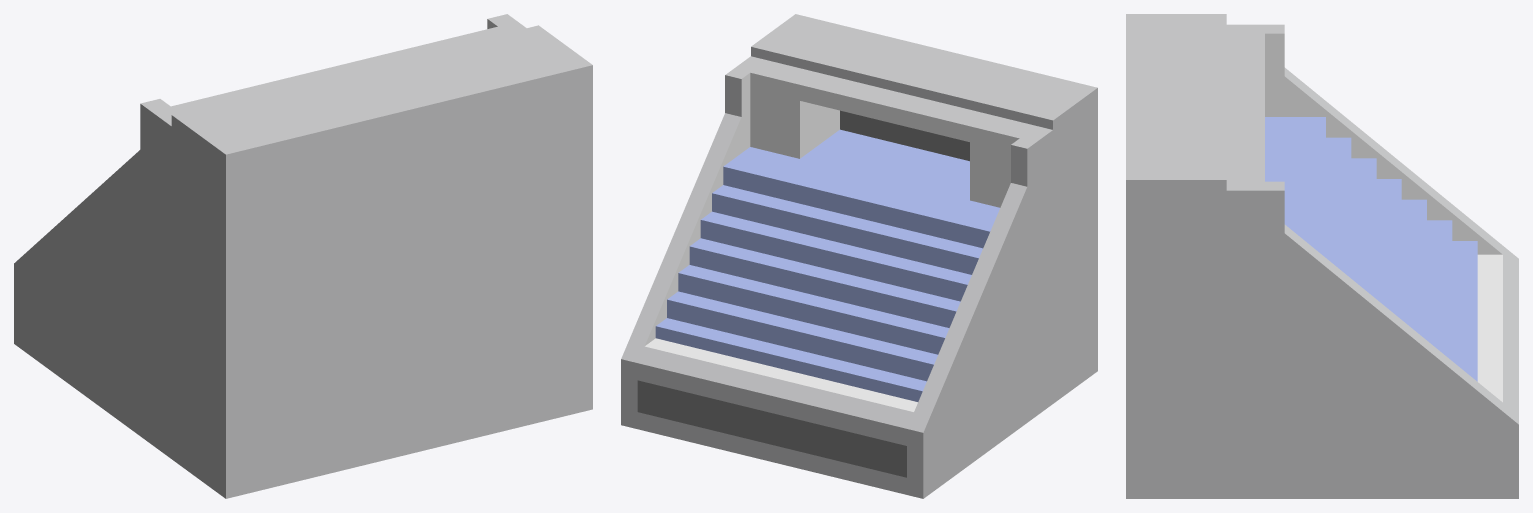
File: grandStandblue.fbx
3 renders of one model, left to right at view 1: azimuth 30°, elevation 25°; view 2: azimuth 150°, elevation 25°; view 3: azimuth 270°, elevation 25°, orthographic. The views are drawn at different scales.
Visible parts, largest first — view 1: grandStand; view 2: grandStand; view 3: grandStand.
Part boxes in pixels (x1,y1,x2,y2): grandStand: (14, 14, 592, 498); grandStand: (621, 14, 1097, 498); grandStand: (1126, 14, 1518, 498).
Size of the model in its own units: 1000 by 896 by 1000.
